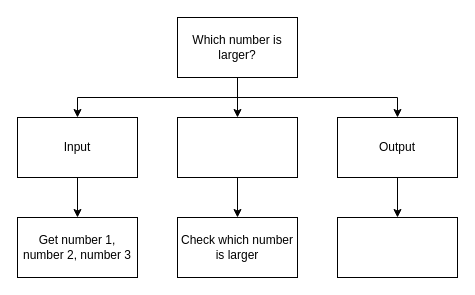
Some shapes in this 475 by 295 pixel diagram are drawn without their labels. Each missing label, with the centre of its shape:
"Process" belongs at point (237, 147).
"Show which number is larger." belongs at point (397, 247).
